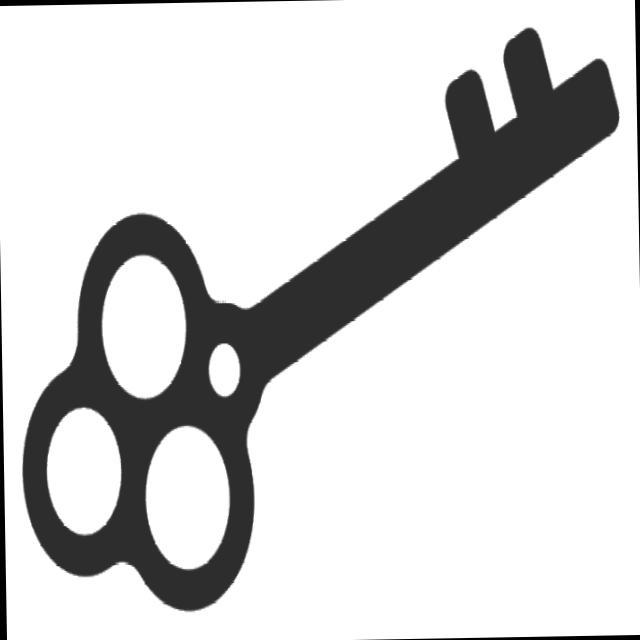key: (5, 11, 636, 628)
